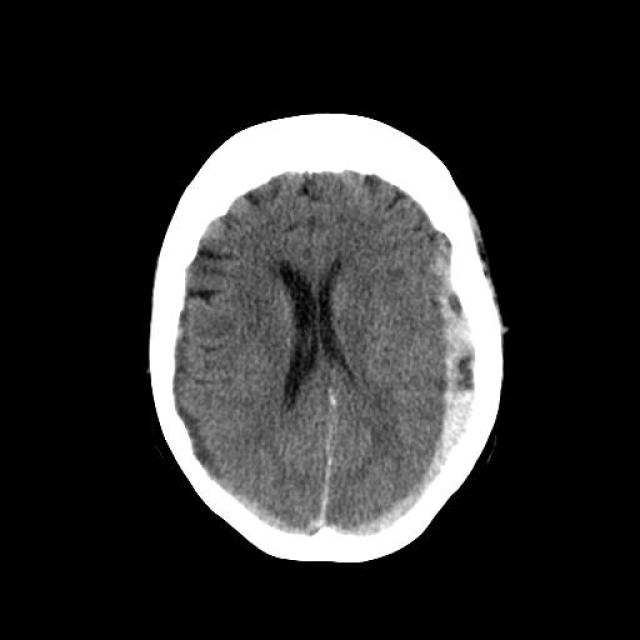Subdural: (351, 230, 504, 560)
